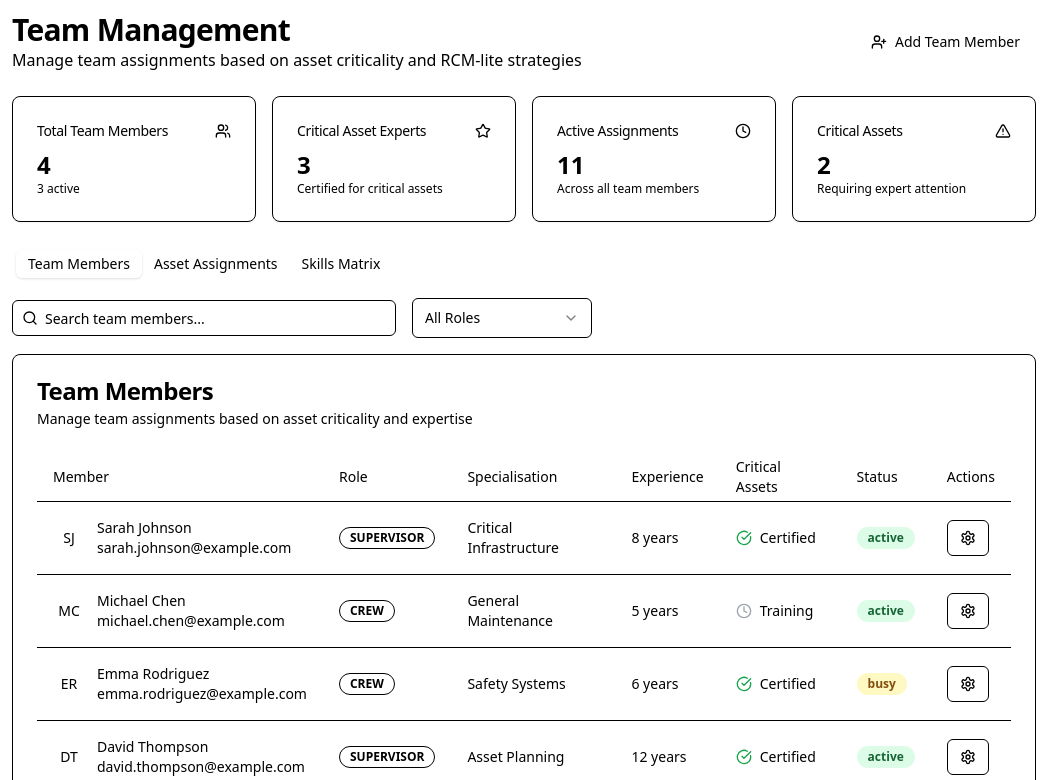
it: Team Management System › Team Members Tab (Rule 1: Purpose-driven team assignments) › should search team members by name, email, or specialisation
The image size is (1048, 780).
Type "Sarah" into the field with placeholder "Search team members..." at (204, 318), box x1=12 y1=300 x2=396 y2=336
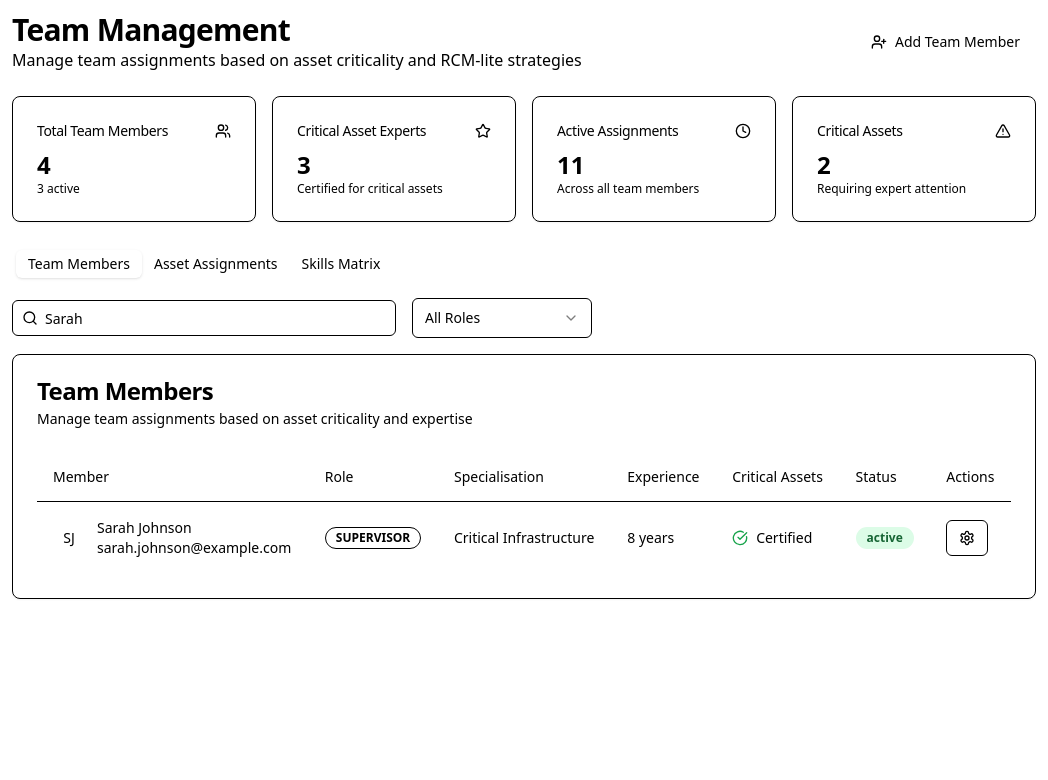
Expected: the text "Sarah Johnson" is shown, x1=97 y1=518 x2=192 y2=536
Expected: the text "Michael Chen" is gone
